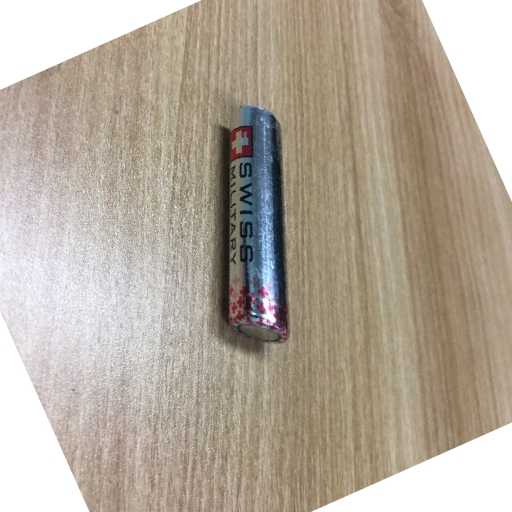Battery_0: (211, 98, 299, 364)
